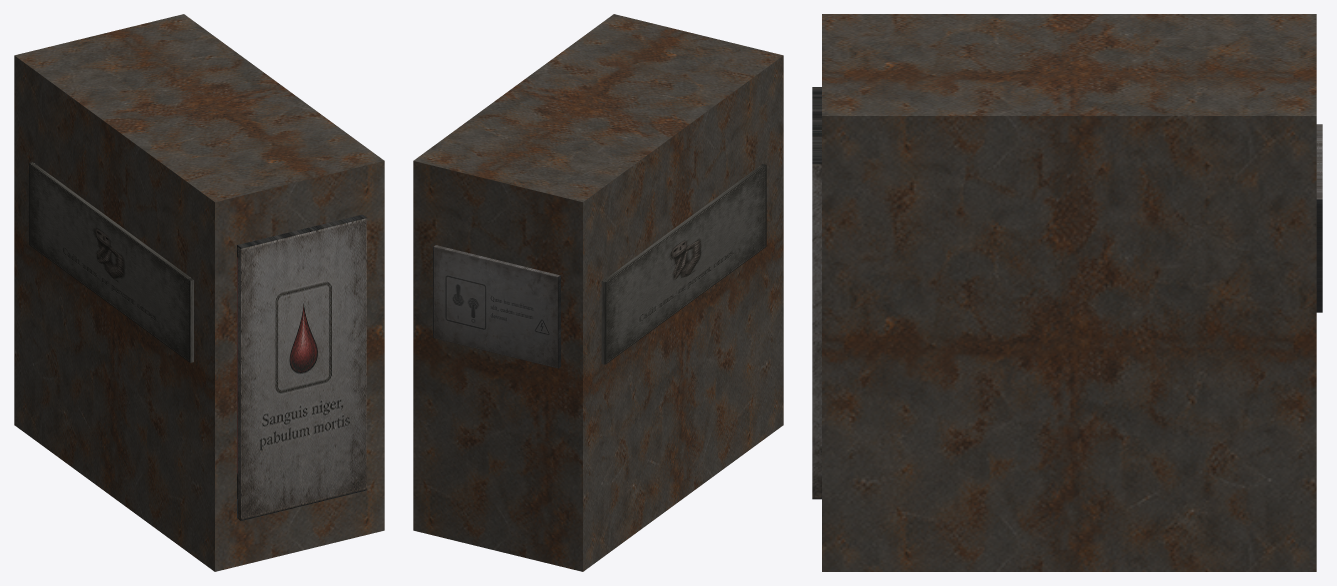
The model's file is Generator.fbx.
3 renders of one model, left to right at view 1: azimuth 30°, elevation 25°; view 2: azimuth 150°, elevation 25°; view 3: azimuth 270°, elevation 25°, orthographic. The views are drawn at different scales.
Visible parts, largest first — view 1: Generator, GenFuelDoor, FuseDoor; view 2: Generator, FuseDoor, GenSwitchDoor; view 3: Generator, GenFuelDoor, GenSwitchDoor.
Boxes of the visible parts, x1,y1,x2,y2 form: Generator: (14, 14, 384, 571); GenFuelDoor: (237, 214, 366, 520); FuseDoor: (29, 162, 193, 362); Generator: (413, 14, 783, 571); FuseDoor: (601, 164, 766, 364); GenSwitchDoor: (433, 245, 560, 368); Generator: (822, 14, 1316, 571); GenFuelDoor: (812, 87, 821, 499); GenSwitchDoor: (1316, 124, 1322, 312).
Size of the model in its own units: 3.73 by 7.59 by 7.7.
